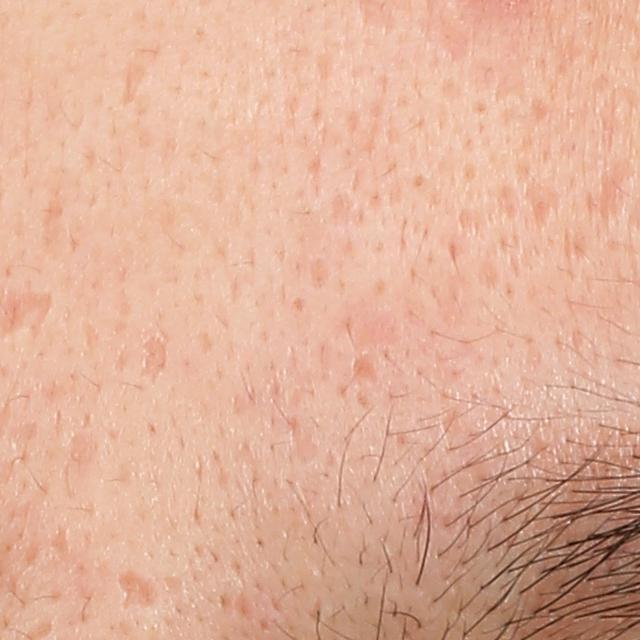atrophic_scar: (112, 568, 168, 616), (521, 180, 561, 231), (141, 325, 173, 381), (125, 56, 147, 110), (51, 523, 73, 566), (351, 356, 380, 384)
